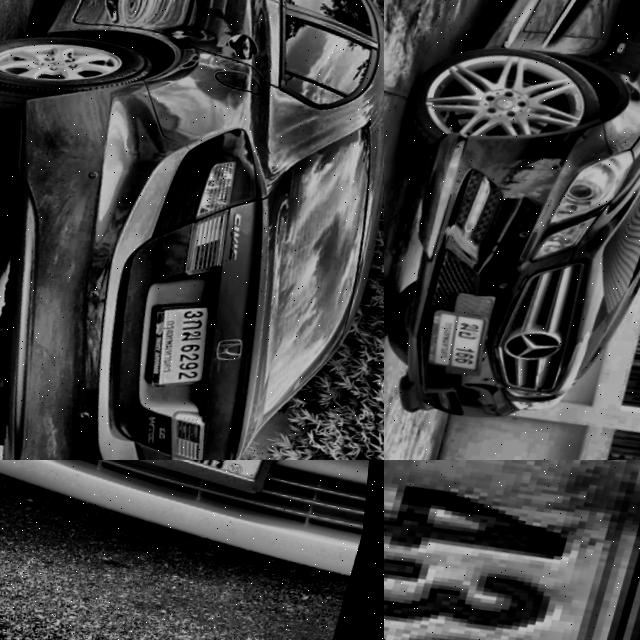license-plate: (384, 460, 640, 640), (0, 460, 192, 626), (136, 294, 234, 406), (429, 307, 502, 381)
